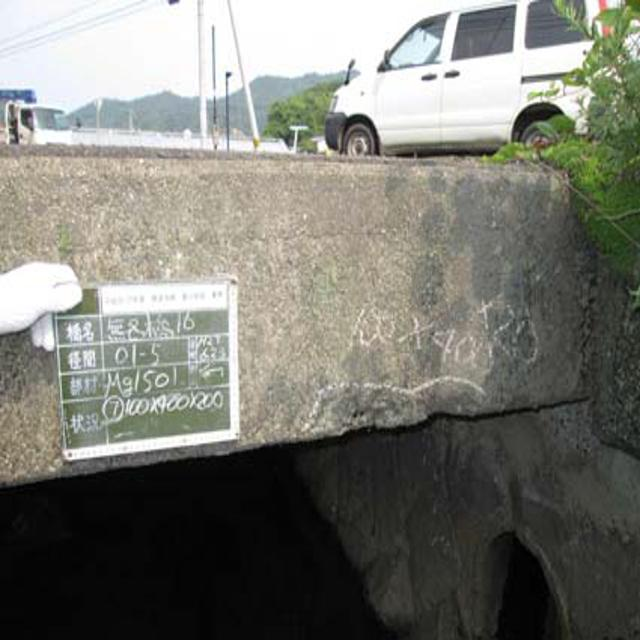spalling: (303, 374, 507, 439)
